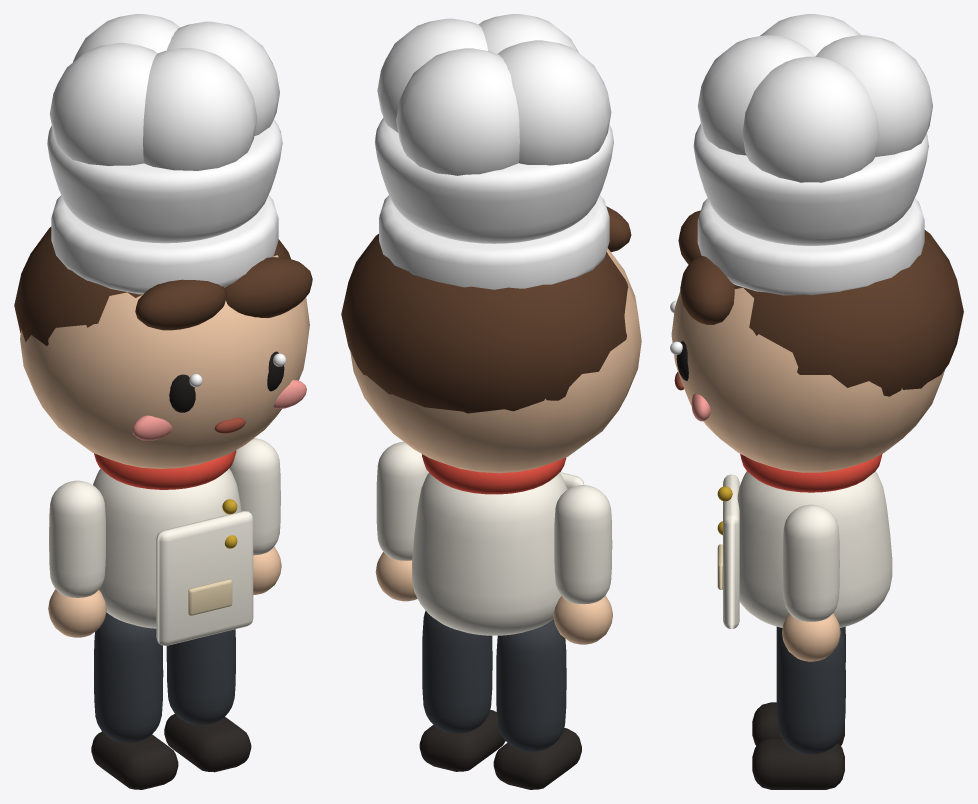
The model's file is char_chef.glb.
3 views of the same model, side by side, from view 1: azimuth 30°, elevation 25°; view 2: azimuth 150°, elevation 25°; view 3: azimuth 270°, elevation 25° (orthographic).
Parts seen in each view (by area): view 1: head, body, legR, legL, armR, armL; view 2: head, body, legR, legL, armR, armL; view 3: head, body, legL, armL, legR.
Part boxes in pixels (box(x1,y1,x2,y2)): head: box(14, 14, 312, 468); body: box(93, 450, 253, 645); legR: box(91, 612, 178, 789); legL: box(164, 629, 251, 772); armR: box(48, 480, 106, 637); armL: box(229, 438, 281, 595); head: box(341, 14, 641, 473); body: box(412, 454, 584, 635); legR: box(493, 619, 581, 789); legL: box(419, 610, 505, 771); armR: box(553, 485, 612, 644); armL: box(375, 441, 428, 601); head: box(670, 14, 963, 472); body: box(717, 454, 892, 629); legL: box(752, 629, 845, 789); armL: box(782, 504, 840, 661); legR: box(752, 626, 845, 745).
Size of the model in its own units: 0.6929 by 1.9 by 0.6992.
